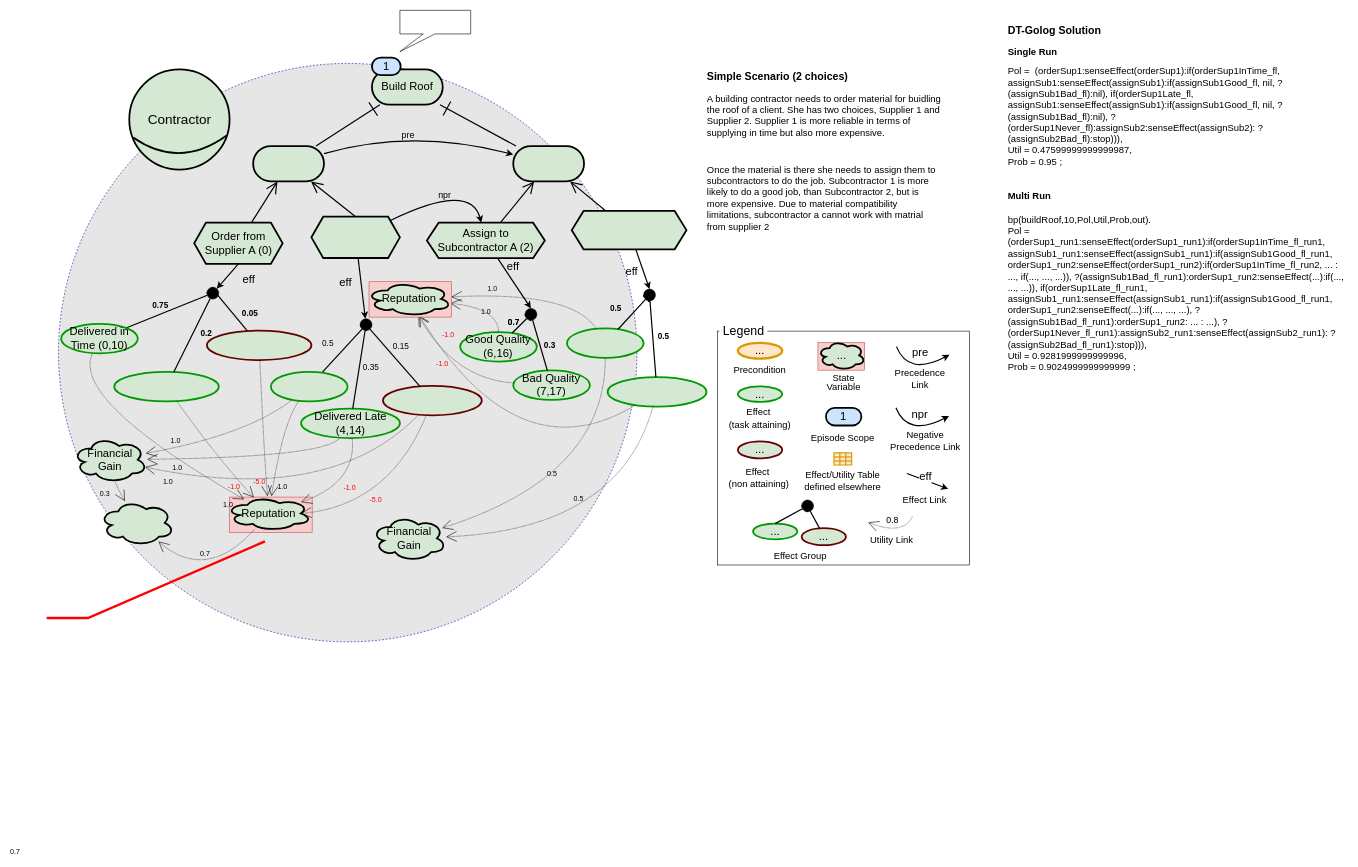
Image size: 1358x867. Some labels were removed from this diagram. The centre of each missing label's shape, as x and y in pixels:
"Assign to Subcontractor B (3)" goes at pixel 629 230.
"Assign Work" goes at pixel 548 163.
"Bad Quality (9,19)" goes at pixel 656 391.
"Delivered in Time (3,13)" goes at pixel 309 386.
"Delivered Late (1,11)" goes at pixel 166 386.
"Good Quality (8,18)" goes at pixel 605 342.
"Never Delivered (2,12)" goes at pixel 259 345.
"Never Delivered (5,15)" goes at pixel 432 400.
"Order from Supplier B (1)" goes at pixel 355 237.
"Order Material" goes at pixel 288 163.
"Reputation is used as state variable in continuous versions" goes at pixel 155 579.
"This is 2 for the MultiRun" goes at pixel 435 31.
"Total Value" goes at pixel 137 522.
